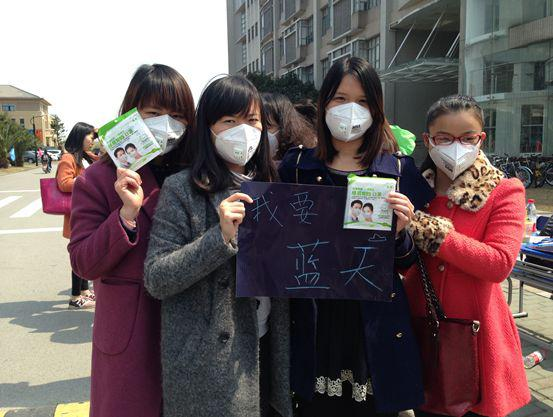NONE: (81, 130, 98, 152)
OK: (134, 103, 188, 157), (430, 121, 480, 178), (326, 84, 375, 141), (213, 110, 262, 163)
